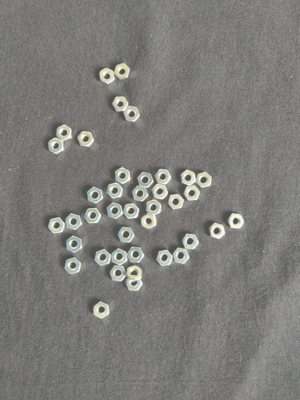nut: (94, 249, 111, 267), (93, 302, 110, 319), (65, 258, 82, 275), (66, 236, 83, 253), (107, 203, 124, 220), (123, 203, 140, 220), (137, 172, 154, 189), (123, 106, 140, 123), (127, 247, 145, 263), (227, 214, 245, 230), (115, 167, 131, 185), (110, 266, 127, 282), (126, 266, 143, 282), (173, 248, 190, 264), (182, 234, 199, 250), (112, 249, 128, 266), (209, 223, 226, 239), (118, 227, 135, 243), (141, 213, 157, 230), (48, 218, 65, 234), (65, 214, 82, 230), (168, 194, 185, 210), (87, 187, 103, 204), (106, 183, 123, 199), (132, 186, 149, 202), (155, 169, 172, 185), (181, 169, 197, 186), (196, 172, 213, 188), (56, 125, 72, 142), (77, 131, 94, 147), (99, 68, 115, 85), (115, 63, 131, 80), (84, 209, 102, 224), (157, 250, 173, 266), (146, 200, 162, 216), (152, 184, 168, 200), (49, 138, 64, 155), (112, 97, 129, 112), (184, 186, 200, 201), (126, 279, 143, 292)
